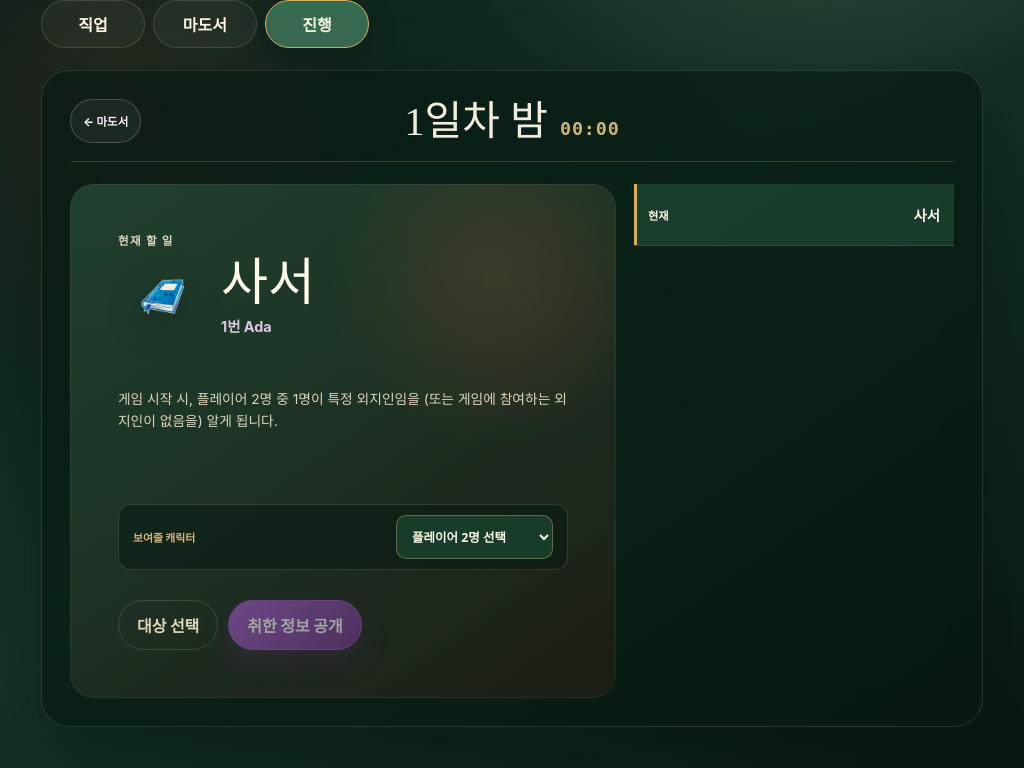
Issue 153 setup-information flow regressions › keeps an impaired Librarian zero-Outsider choice editable in the SnV-style information picker
(page scrolled)
Expected: the heading named "사서: 1번 Ada" is shown, [221,257,315,308]
Select "외지인 없음" in the dropdown named "보여줄 캐릭터": (474, 537) [396,515,553,559]
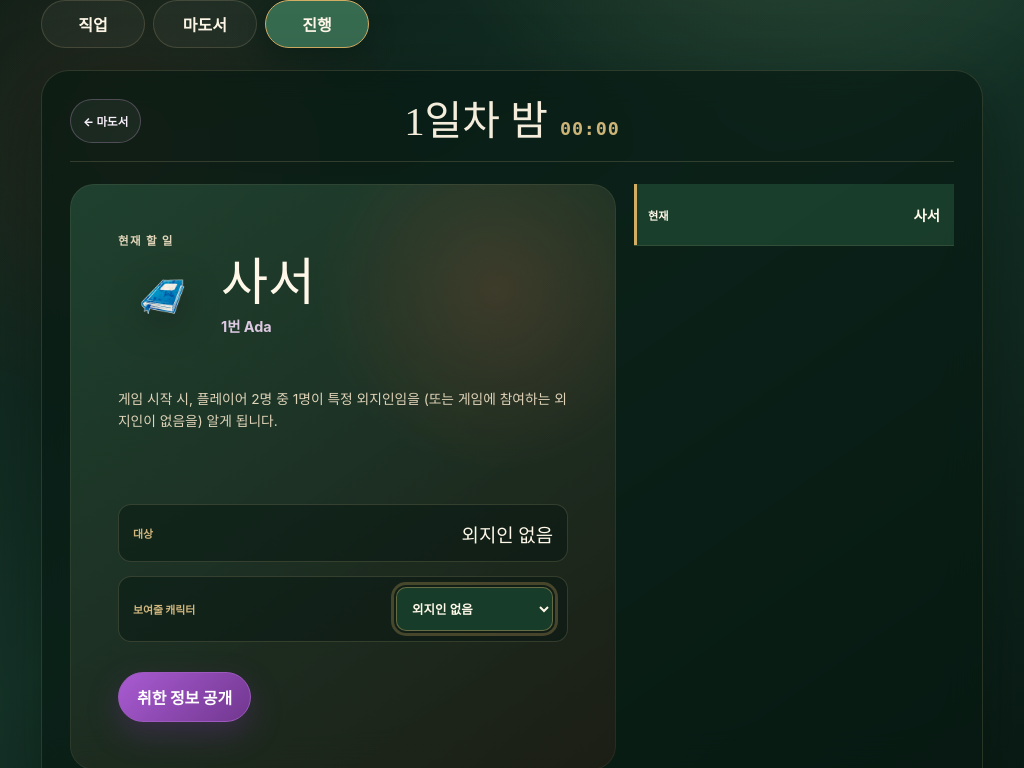
Expected: the button "취한 정보 공개" is shown, [118,672,251,722]
Select "플레이어 2명 선택" in the dropdown named "보여줄 캐릭터": (474, 609) [396,587,553,631]
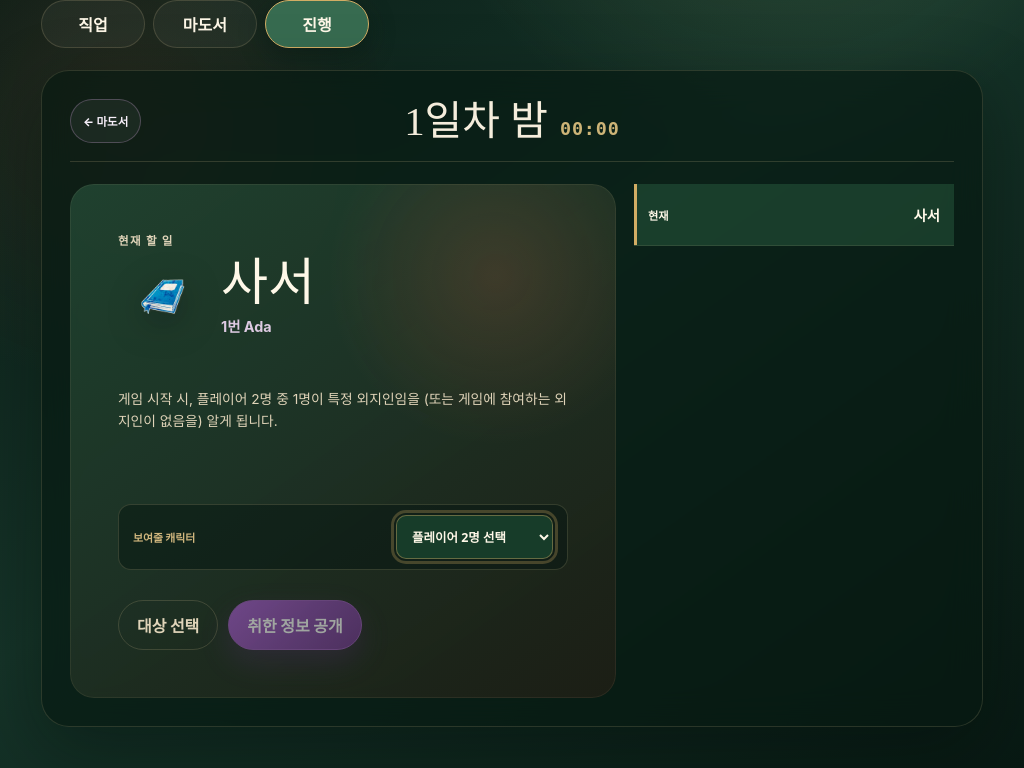
Result: the button "대상 선택" is shown at [118,600,218,650]
